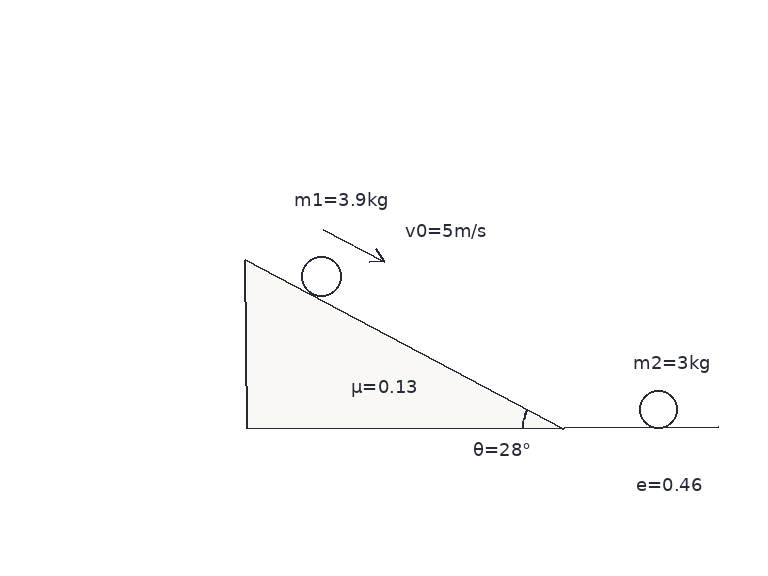ball: (299, 254, 343, 298), (637, 388, 679, 430)
ramp: (243, 257, 565, 430)
